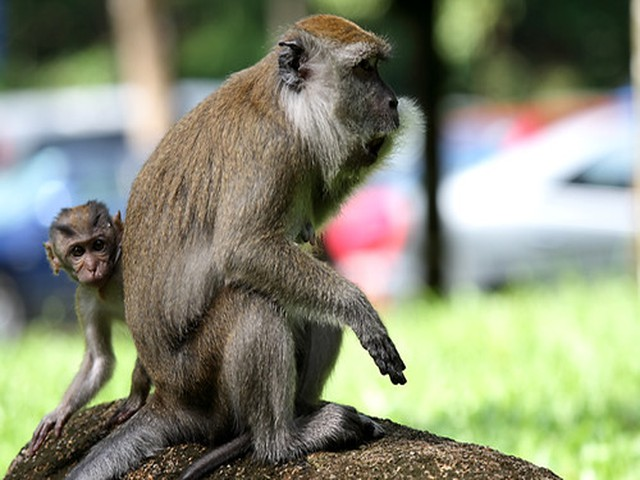Monkey: (40, 8, 424, 458)
